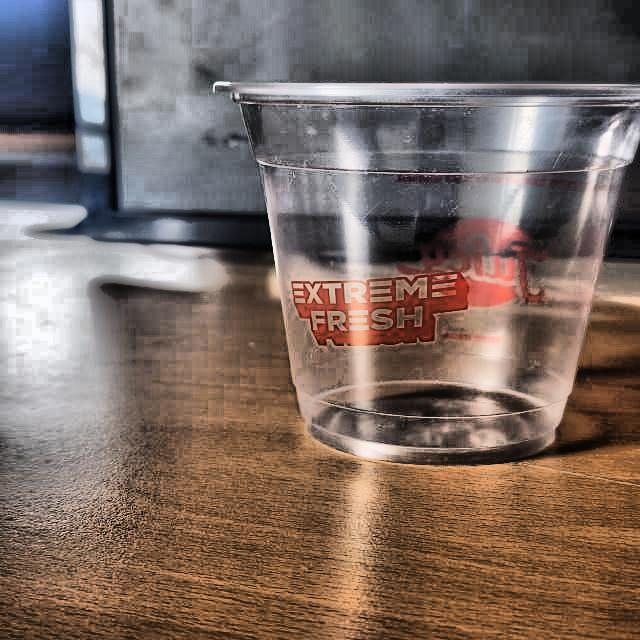plastic cup: (212, 78, 639, 464)
